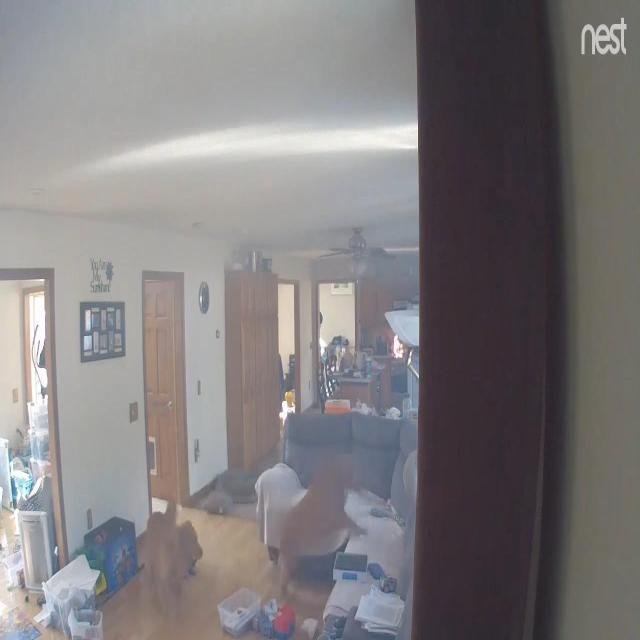fire: (393, 335, 404, 358)
